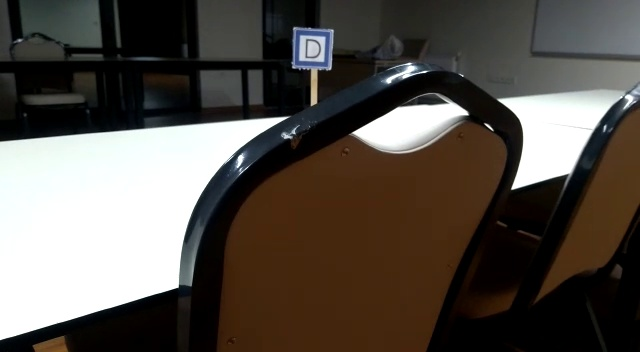durak: (290, 28, 333, 70)
